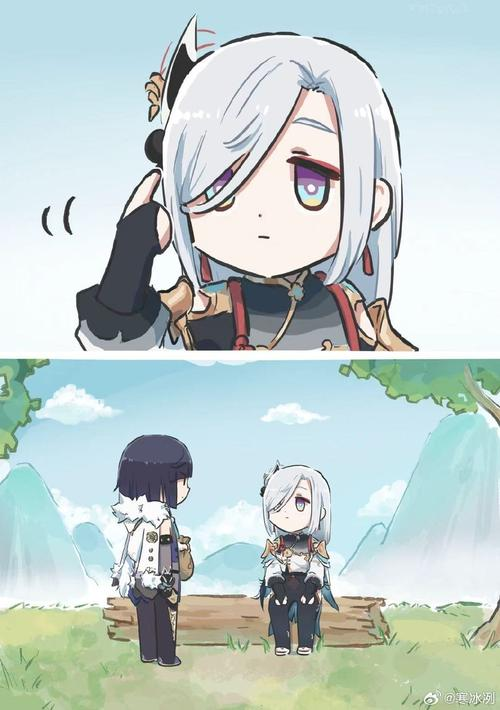夜兰: (106, 434, 202, 672)
